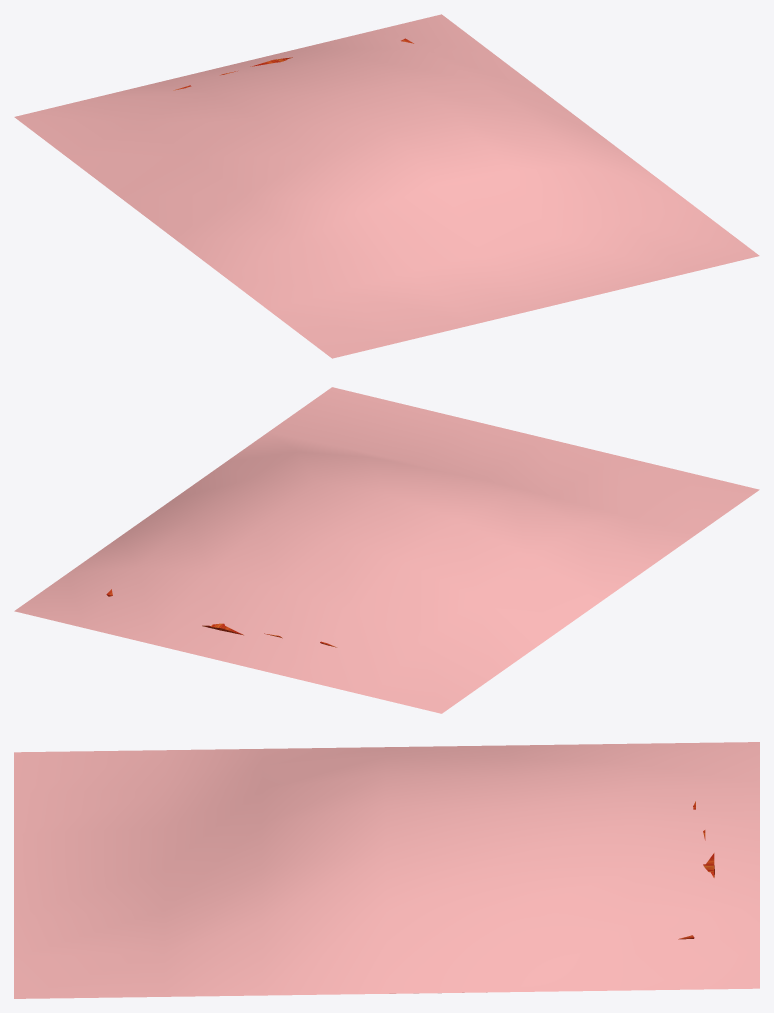
File: ref_spicystrips.glb
3 renders of one model, top to bottom at view 1: azimuth 30°, elevation 25°; view 2: azimuth 150°, elevation 25°; view 3: azimuth 270°, elevation 25°, orthographic. The views are drawn at different scales.
Visible parts, largest first — view 1: ref_spicystrips_part0; view 2: ref_spicystrips_part0; view 3: ref_spicystrips_part0.
Part boxes in pixels (<box>): ref_spicystrips_part0: <box>14,14,759,358</box>; ref_spicystrips_part0: <box>14,387,759,713</box>; ref_spicystrips_part0: <box>14,742,759,998</box>.
Size of the model in its own units: 0.7762 by 0.1898 by 1.
Materials: 4 (2 with a texture image).
